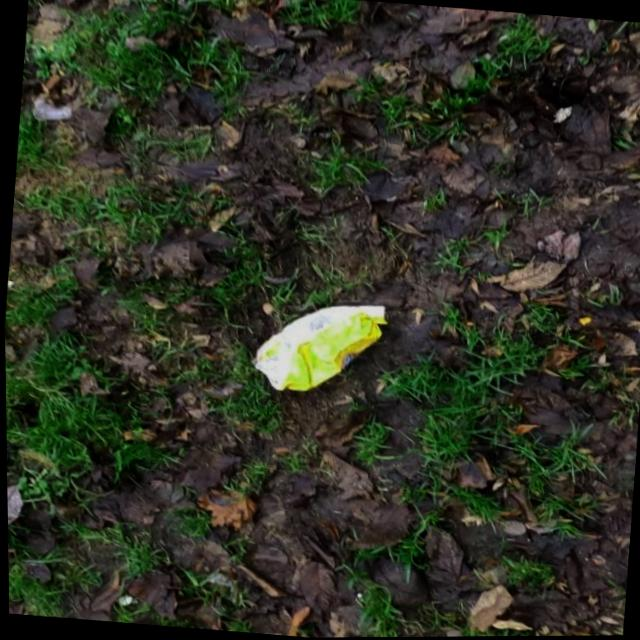Plastic: (240, 292, 391, 403)
